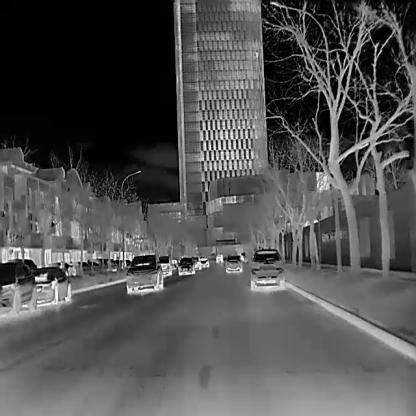car: (0, 261, 36, 312), (248, 247, 284, 288), (33, 266, 70, 303), (126, 254, 162, 292), (223, 254, 242, 272), (156, 255, 172, 276), (176, 256, 193, 274), (190, 255, 200, 270), (199, 256, 209, 268)
